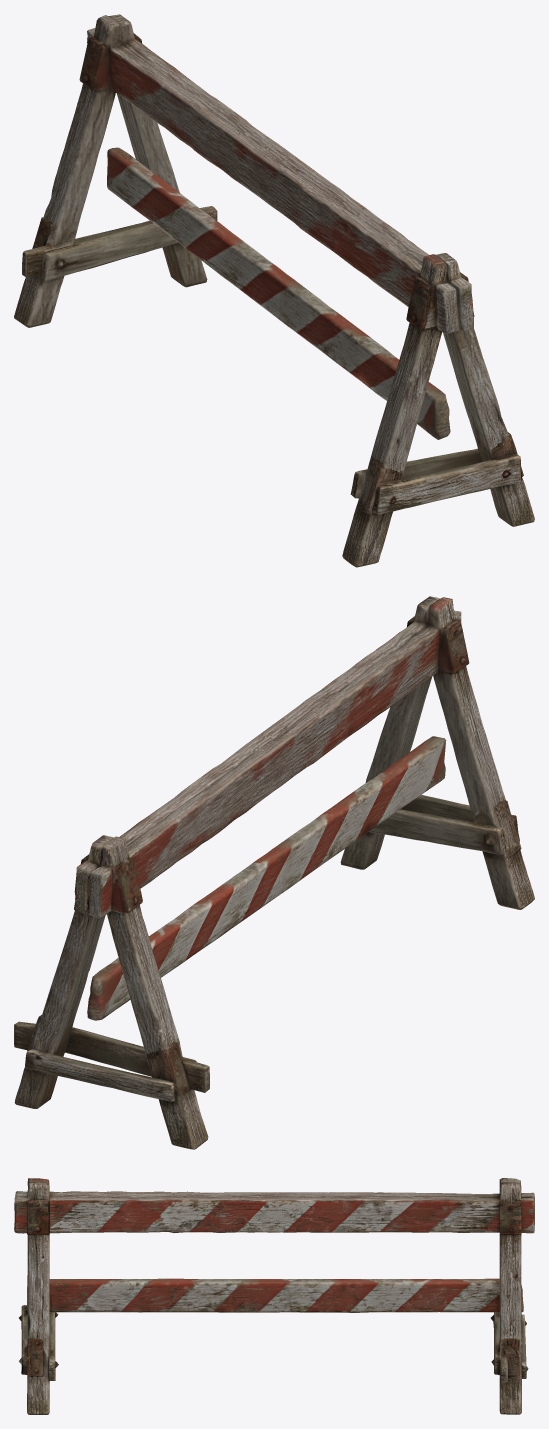
The model's file is barricade.glb.
3 views of the same model, one above another, from view 1: azimuth 30°, elevation 25°; view 2: azimuth 150°, elevation 25°; view 3: azimuth 270°, elevation 25° (orthographic). The views are drawn at different scales.
Parts seen in each view (by area): view 1: tripo_node_07beb2fc-60d9-4440-8150-bd702bfe7999; view 2: tripo_node_07beb2fc-60d9-4440-8150-bd702bfe7999; view 3: tripo_node_07beb2fc-60d9-4440-8150-bd702bfe7999.
Part boxes in pixels (x1,y1,x2,y2): tripo_node_07beb2fc-60d9-4440-8150-bd702bfe7999: (14,14,534,567); tripo_node_07beb2fc-60d9-4440-8150-bd702bfe7999: (14,596,534,1149); tripo_node_07beb2fc-60d9-4440-8150-bd702bfe7999: (14,1178,534,1414).
Size of the model in its own units: 0.9255 by 1.3 by 3.
1 material, 1 textured.
